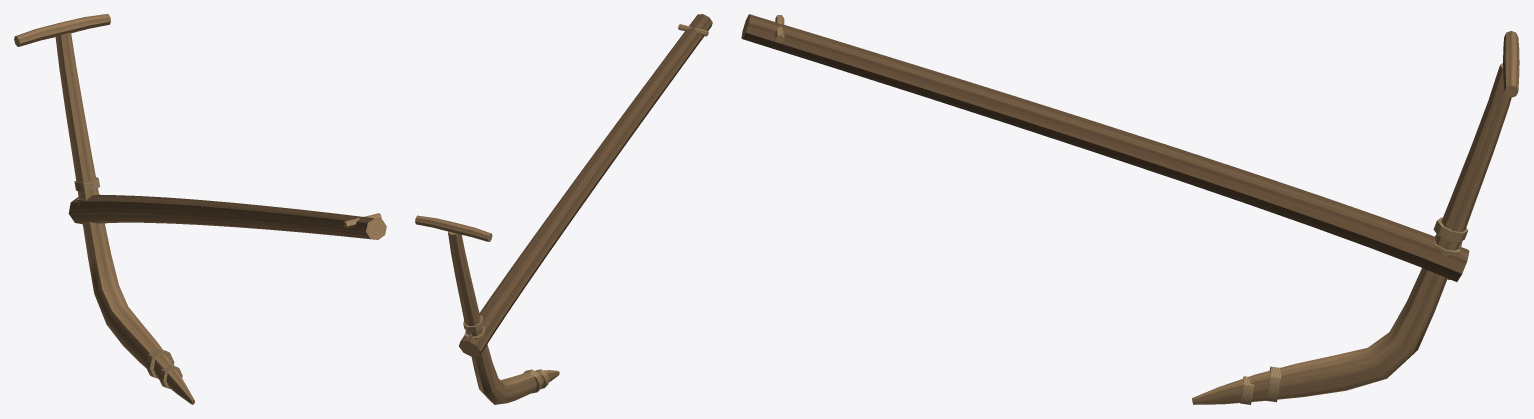
Rendered from ard.glb.
The picture shows the model from 3 angles, left to right: view 1: azimuth 30°, elevation 25°; view 2: azimuth 150°, elevation 25°; view 3: azimuth 270°, elevation 25°; orthographic projection. The views are drawn at different scales.
Visible parts, largest first — view 1: ARD; view 2: ARD; view 3: ARD.
Part boxes in pixels (left/top/right/bottom): ARD: left=14, top=14, right=386, bottom=404; ARD: left=415, top=14, right=712, bottom=404; ARD: left=741, top=14, right=1519, bottom=404.
Bounding box in the file's own units: 0.3428 × 1.14 × 2.06.
1 material, 1 textured.
